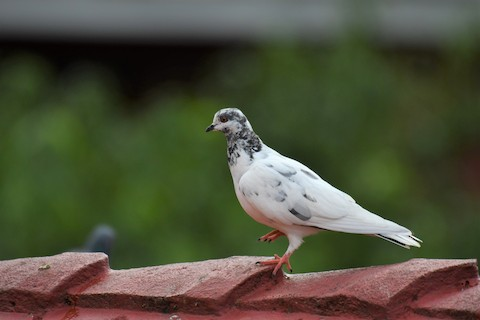pigeon: (202, 102, 427, 283)
